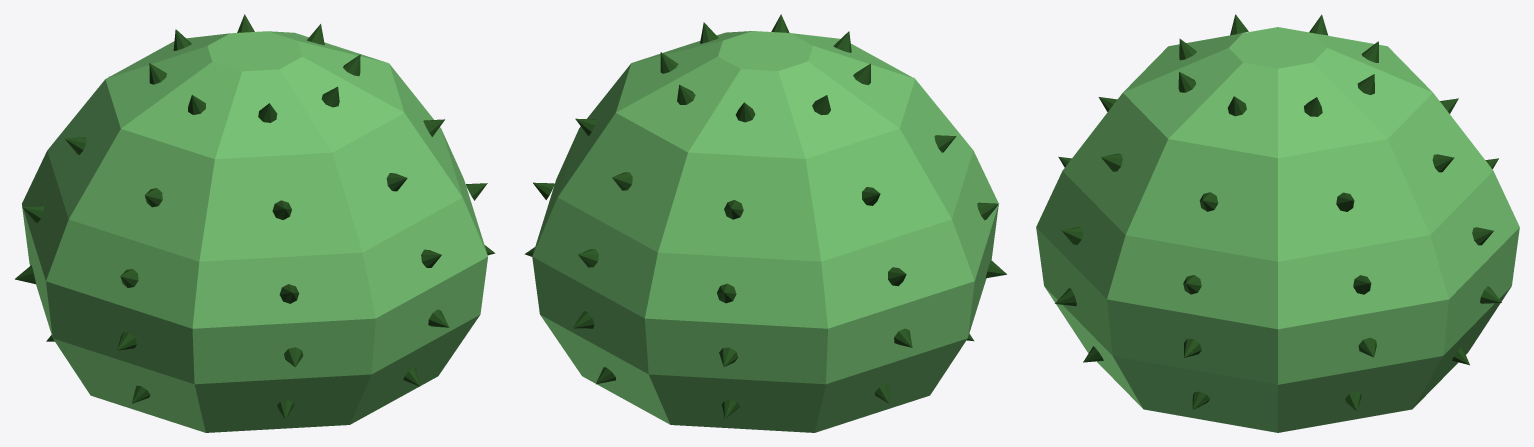
The model's file is Cactus_ball1.fbx.
3 renders of one model, left to right at view 1: azimuth 30°, elevation 25°; view 2: azimuth 150°, elevation 25°; view 3: azimuth 270°, elevation 25°, orthographic.
Parts seen in each view (by area): view 1: Cactus ball; view 2: Cactus ball; view 3: Cactus ball.
Part boxes in pixels (<box>): Cactus ball: <box>15,14,495,432</box>; Cactus ball: <box>524,14,1006,432</box>; Cactus ball: <box>1036,14,1519,432</box>.
Bounding box in the file's own units: 37.88 × 29.1 × 37.88.
